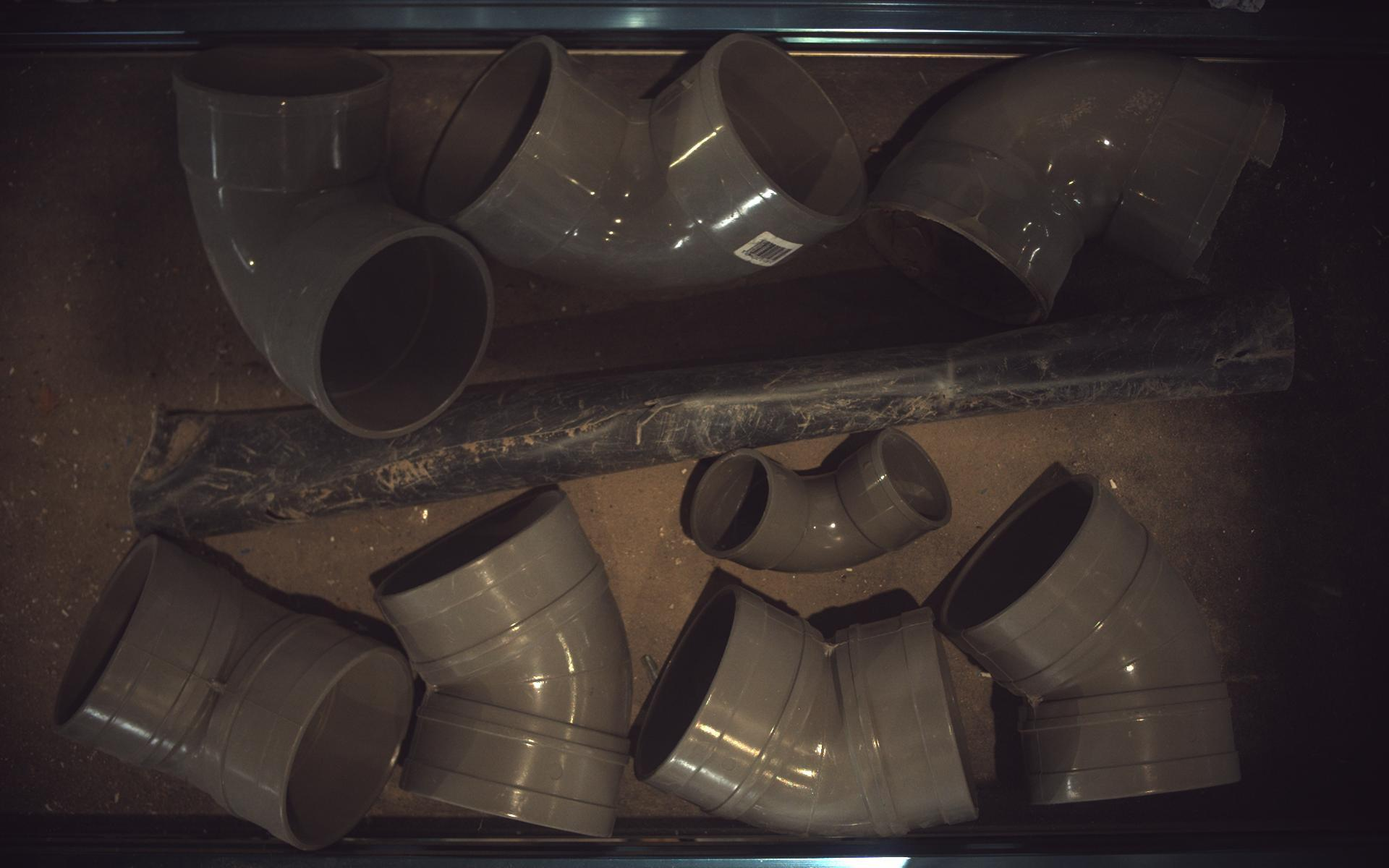pipes: (129, 290, 1298, 538), (173, 46, 493, 438), (866, 48, 1288, 323), (423, 33, 868, 292), (54, 537, 413, 851), (943, 476, 1243, 805), (375, 489, 632, 838), (638, 587, 979, 838), (692, 428, 953, 573)
